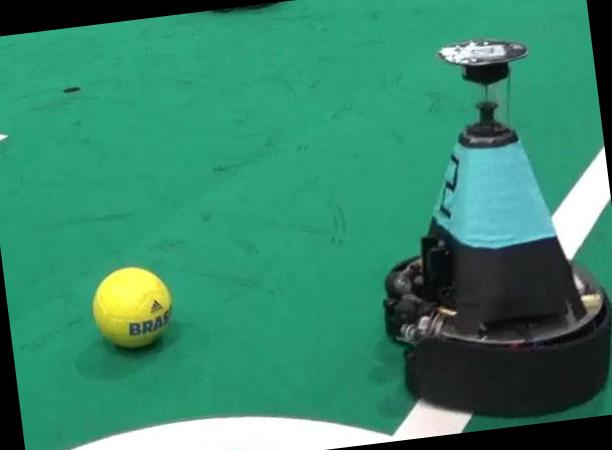ball: (92, 266, 171, 347)
robot: (386, 39, 611, 416)
